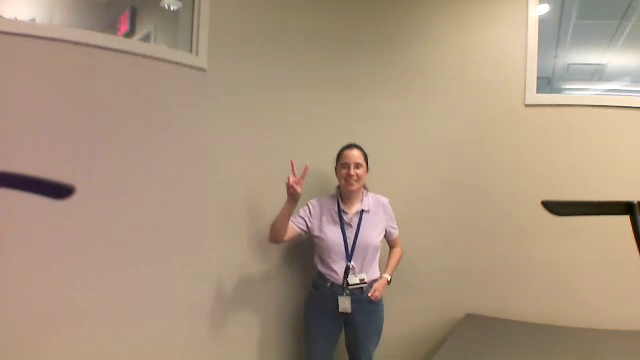peace: (282, 156, 314, 206)
